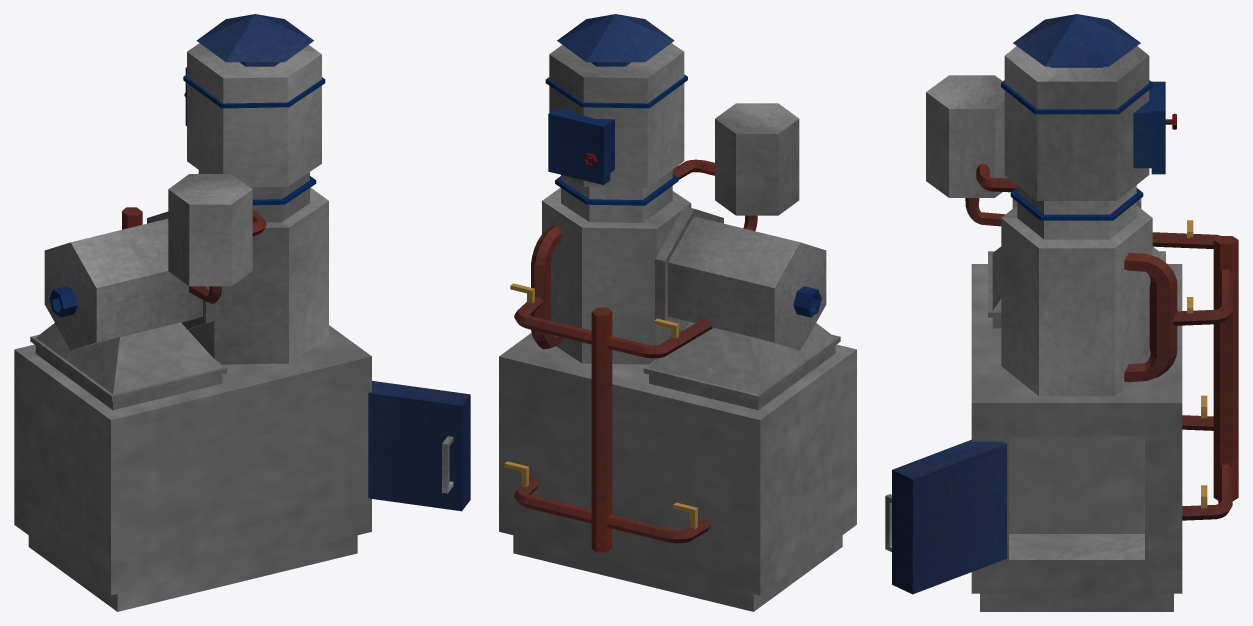
File: incinerador.fbx
3 renders of one model, left to right at view 1: azimuth 30°, elevation 25°; view 2: azimuth 150°, elevation 25°; view 3: azimuth 270°, elevation 25°, orthographic. The views are drawn at different scales.
Parts seen in each view (by area): view 1: Cube; view 2: Cube; view 3: Cube.
Part boxes in pixels (box(x1,y1,x2,y2)): Cube: box(14, 14, 470, 611); Cube: box(499, 14, 856, 611); Cube: box(885, 14, 1238, 611).
Bounding box in the file's own units: 405 × 594 × 336.
